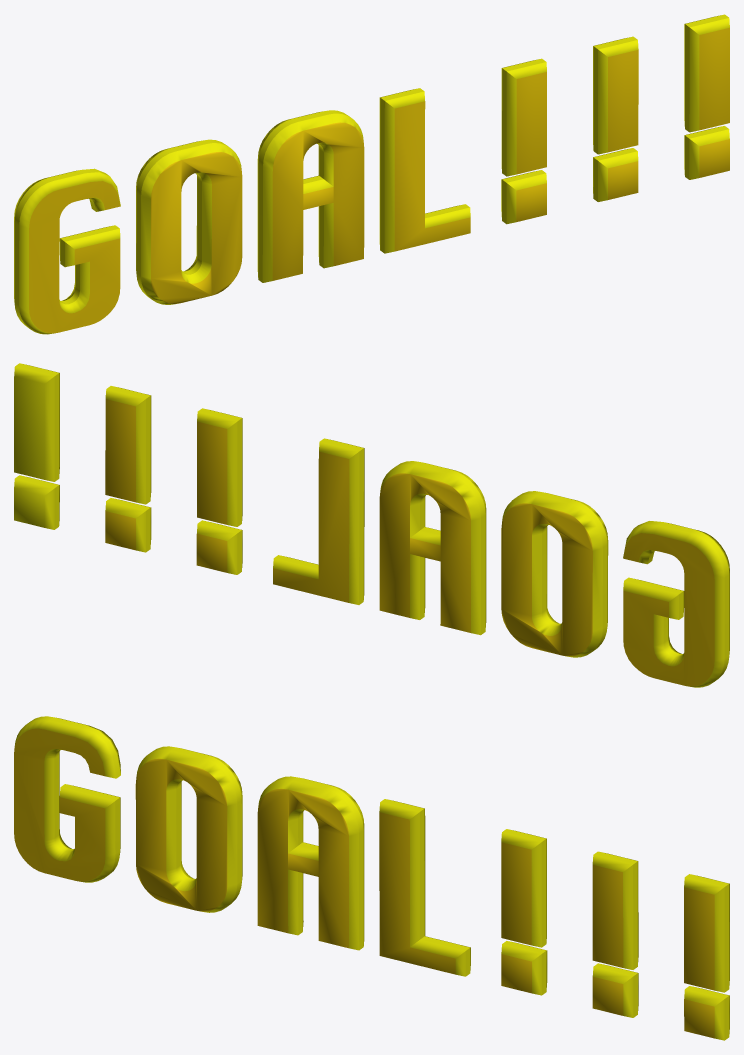
Rendered from goal.fbx.
3 renders of one model, top to bottom at view 1: azimuth 30°, elevation 25°; view 2: azimuth 150°, elevation 25°; view 3: azimuth 330°, elevation 25°, orthographic.
Visible parts, largest first — view 1: goal; view 2: goal; view 3: goal.
Part boxes in pixels (box(x1,y1,x2,y2)): goal: box(14, 14, 729, 334); goal: box(14, 363, 729, 687); goal: box(14, 716, 729, 1040).
Size of the model in its own units: 3.04 by 0.6279 by 0.1278.
